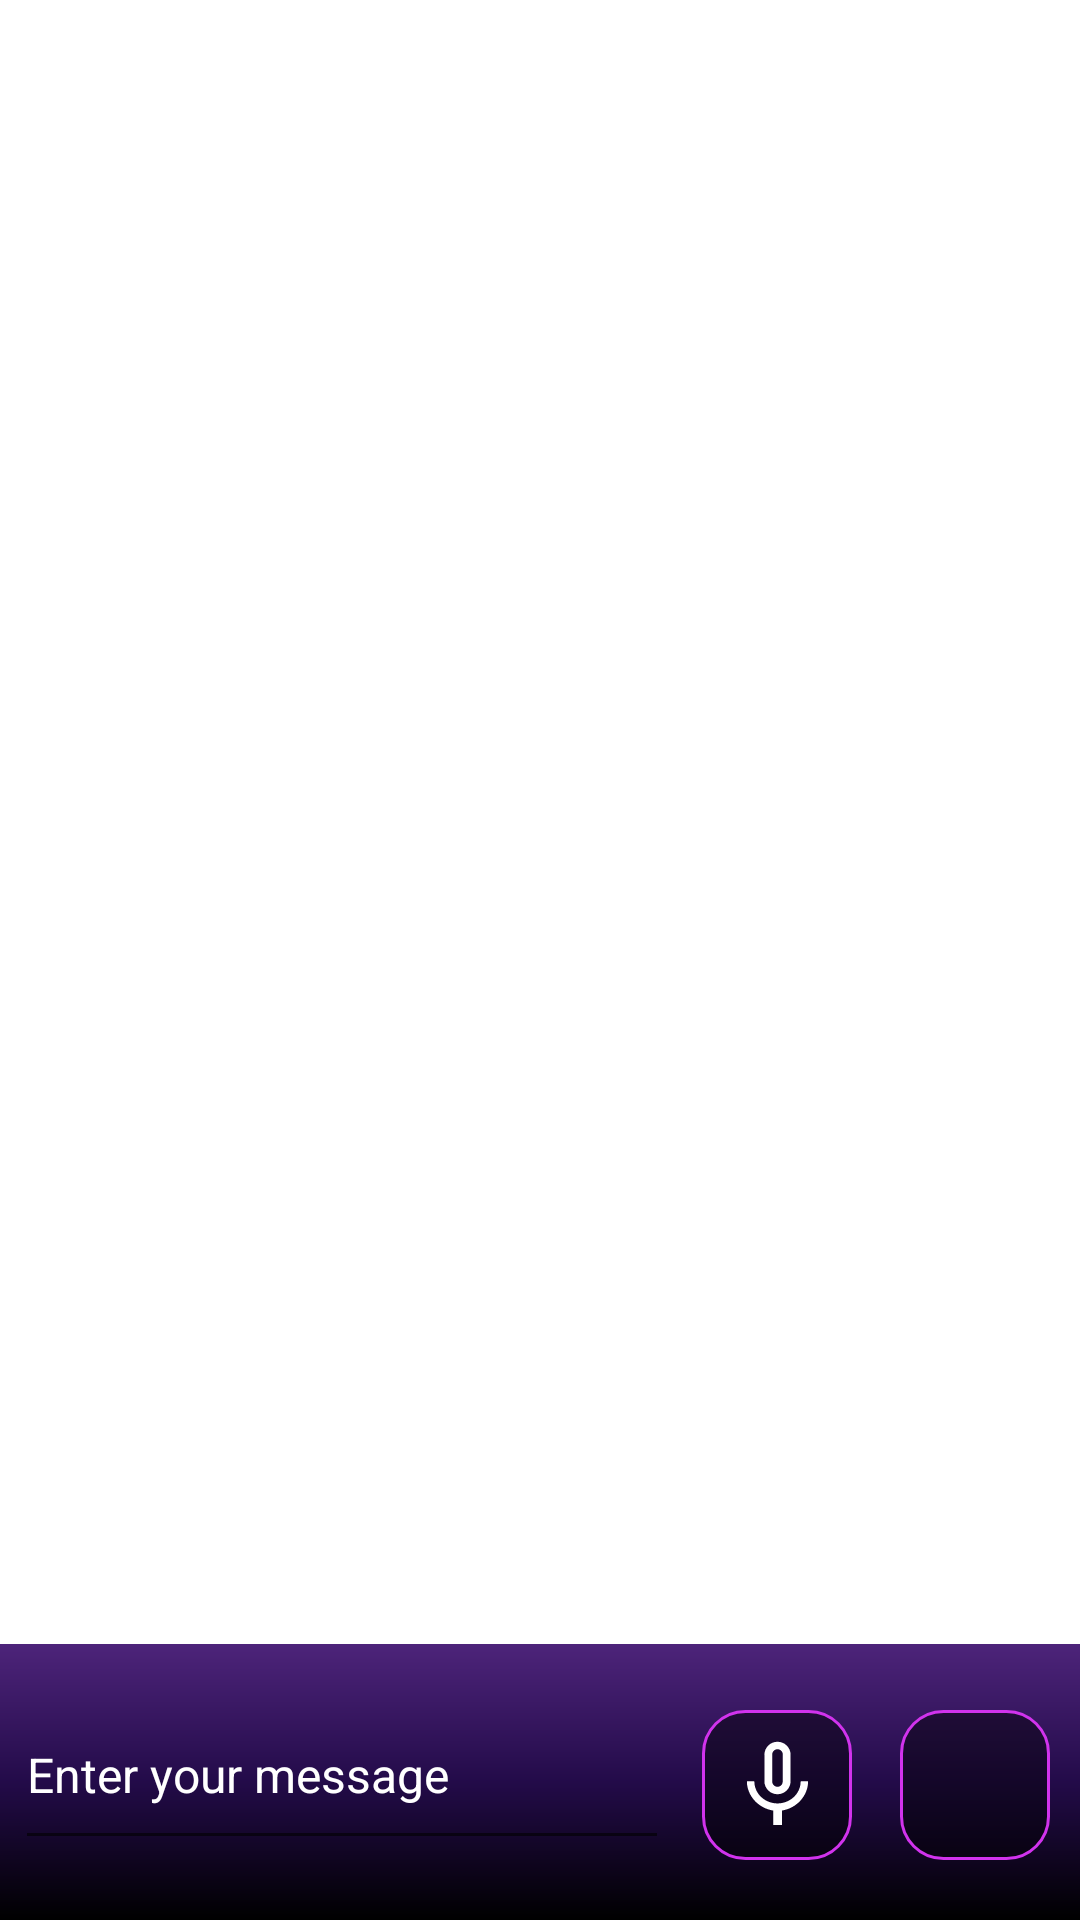

Where to tap for icons on this 1080*1920 app screen, as (x=x, y=y):
mic none: (x=777, y=1785)
